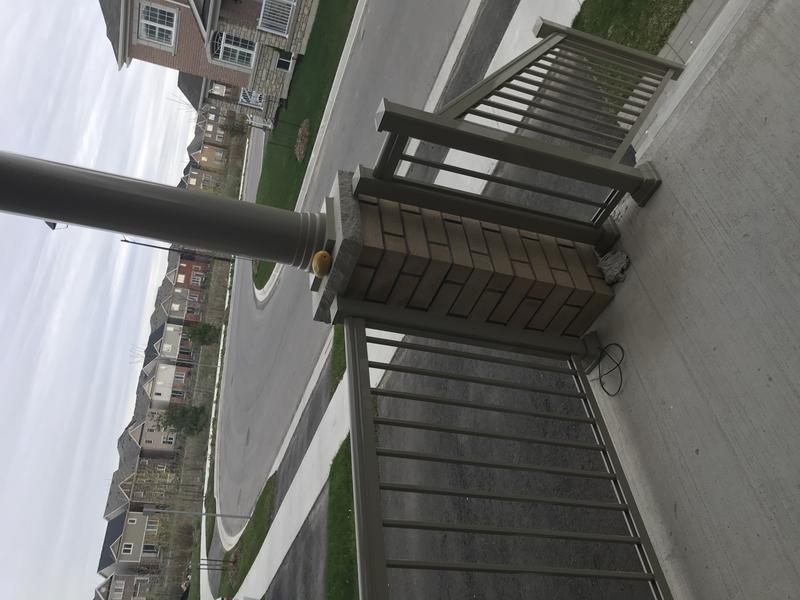mango: (307, 246, 335, 283)
